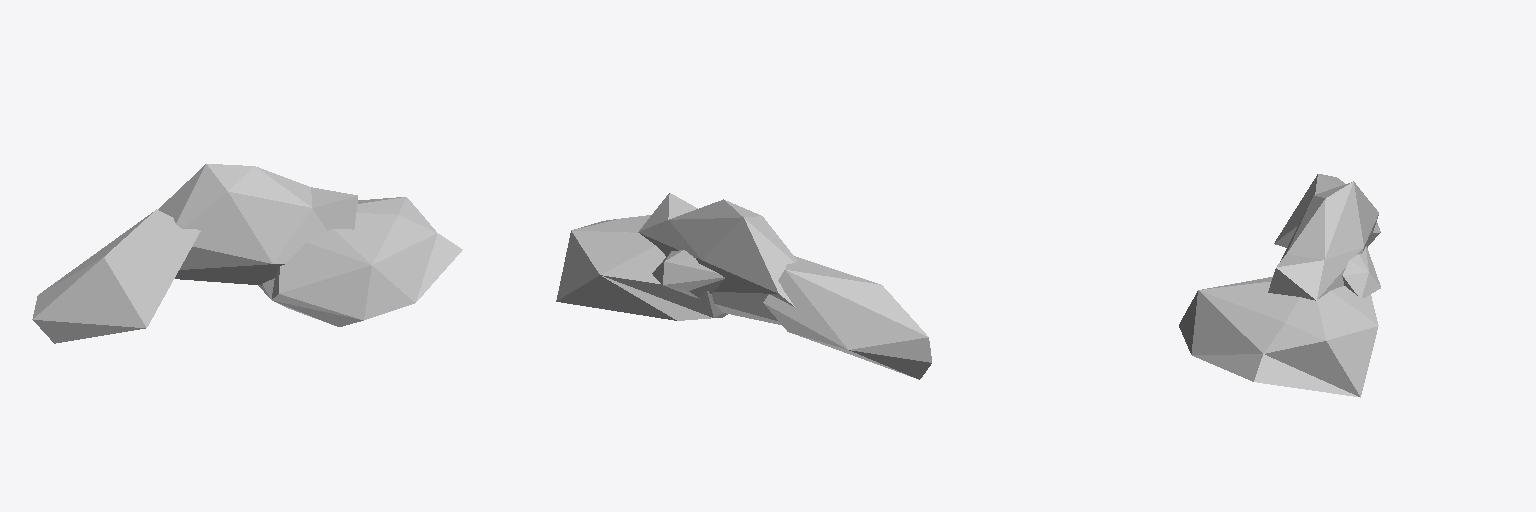
File: clouds3.obj
3 renders of one model, left to right at view 1: azimuth 30°, elevation 25°; view 2: azimuth 150°, elevation 25°; view 3: azimuth 270°, elevation 25°, orthographic.
Parts seen in each view (by area): view 1: Icosphere.002, Icosphere, Icosphere.001; view 2: Icosphere.001, Icosphere.002, Icosphere, Icosphere.003; view 3: Icosphere, Icosphere.002, Icosphere.003, Icosphere.001.
Part boxes in pixels (bbox=[...]): Icosphere.002: bbox=[158, 164, 357, 285]; Icosphere: bbox=[258, 197, 462, 326]; Icosphere.001: bbox=[32, 209, 200, 343]; Icosphere.001: bbox=[763, 256, 931, 379]; Icosphere.002: bbox=[638, 193, 797, 324]; Icosphere: bbox=[556, 215, 727, 320]; Icosphere.003: bbox=[652, 250, 724, 298]; Icosphere: bbox=[1179, 277, 1378, 397]; Icosphere.002: bbox=[1268, 181, 1378, 300]; Icosphere.003: bbox=[1342, 246, 1380, 297]; Icosphere.001: bbox=[1274, 174, 1380, 247].
Bounding box in the file's own units: 18.46 × 6.22 × 8.36.